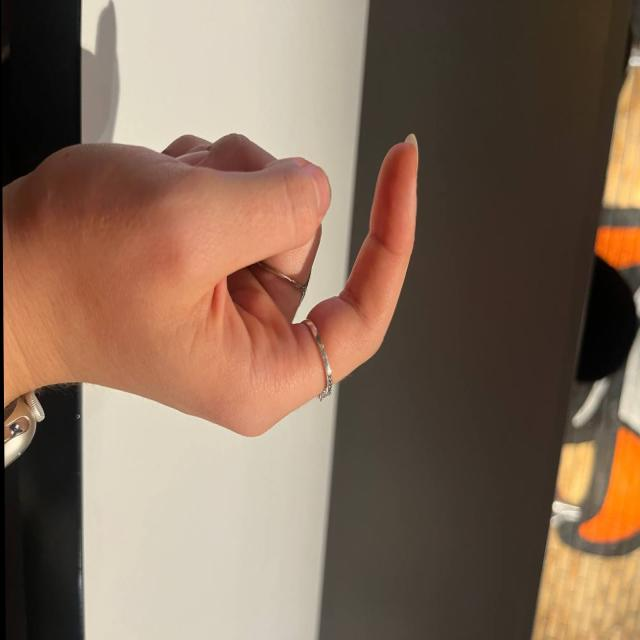kh: (89, 105, 423, 451)
